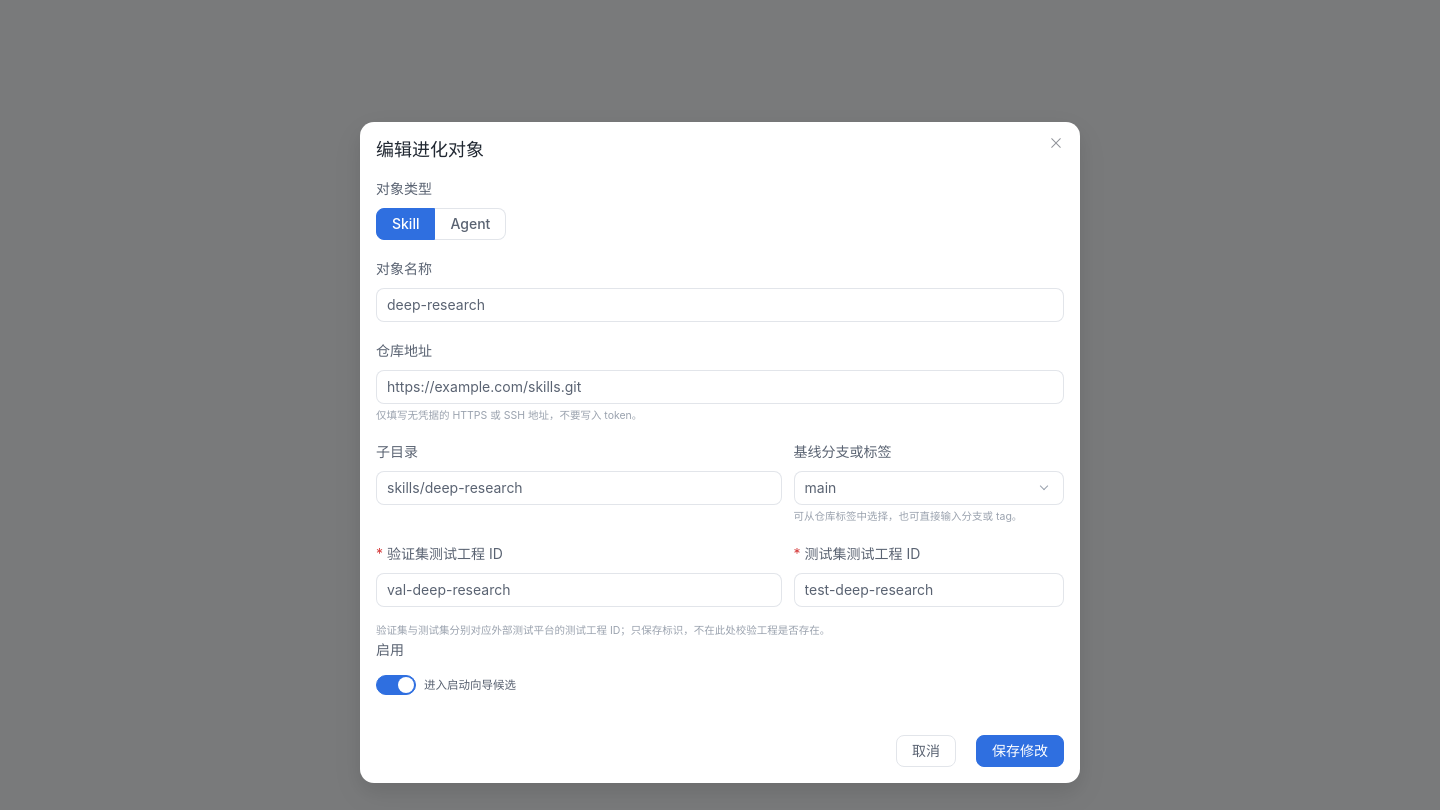
TargetFormDialog › selects a focused suggestion with the keyboard
The image size is (1440, 810).
Click the button named "展开标签建议": (1044,488) [1035, 479, 1053, 497]
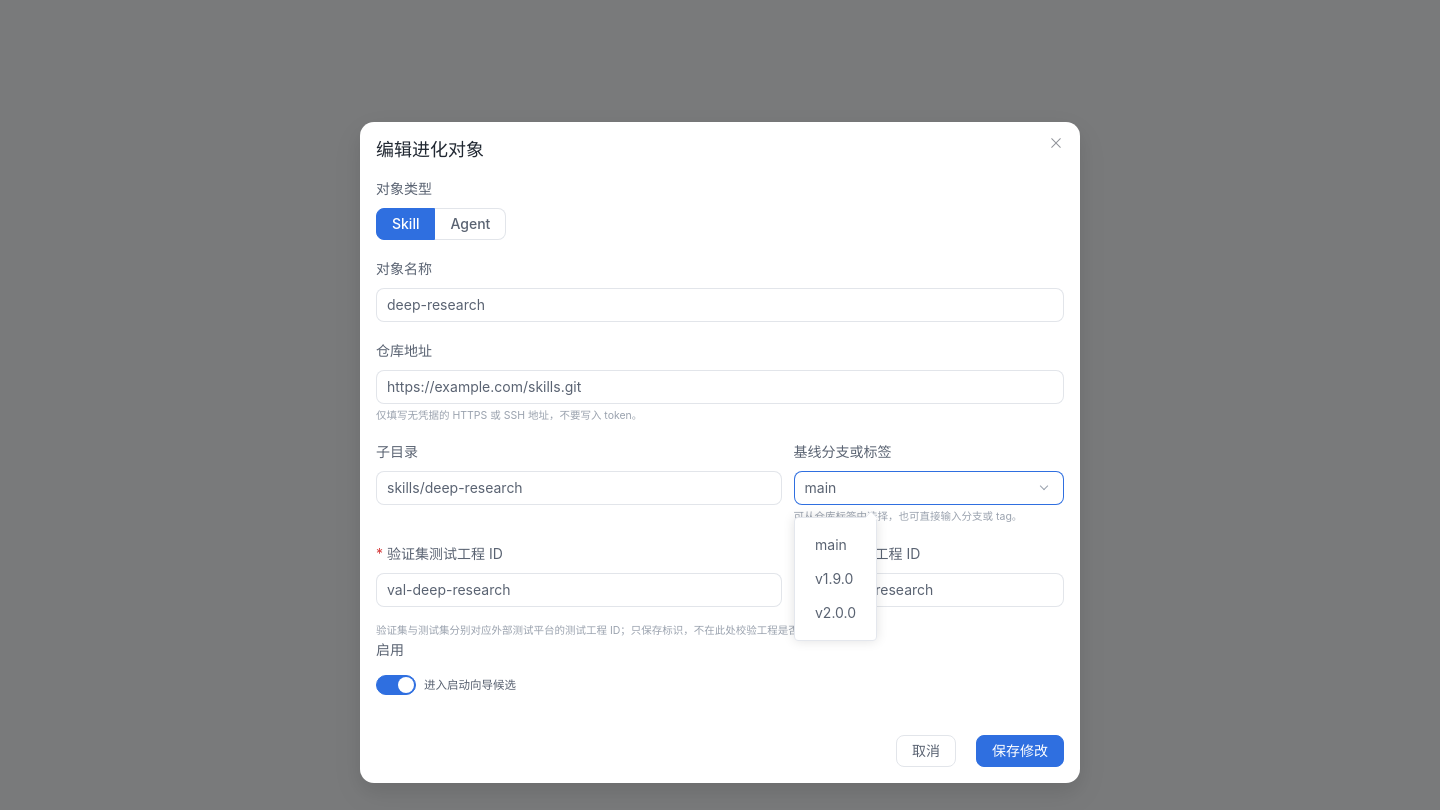
Press ArrowDown in the field named "defaultRef", box [805, 473, 1027, 503]
Press ArrowDown in the field named "defaultRef", box [805, 473, 1027, 503]
Press Enter in the field named "defaultRef", box [805, 473, 1027, 503]
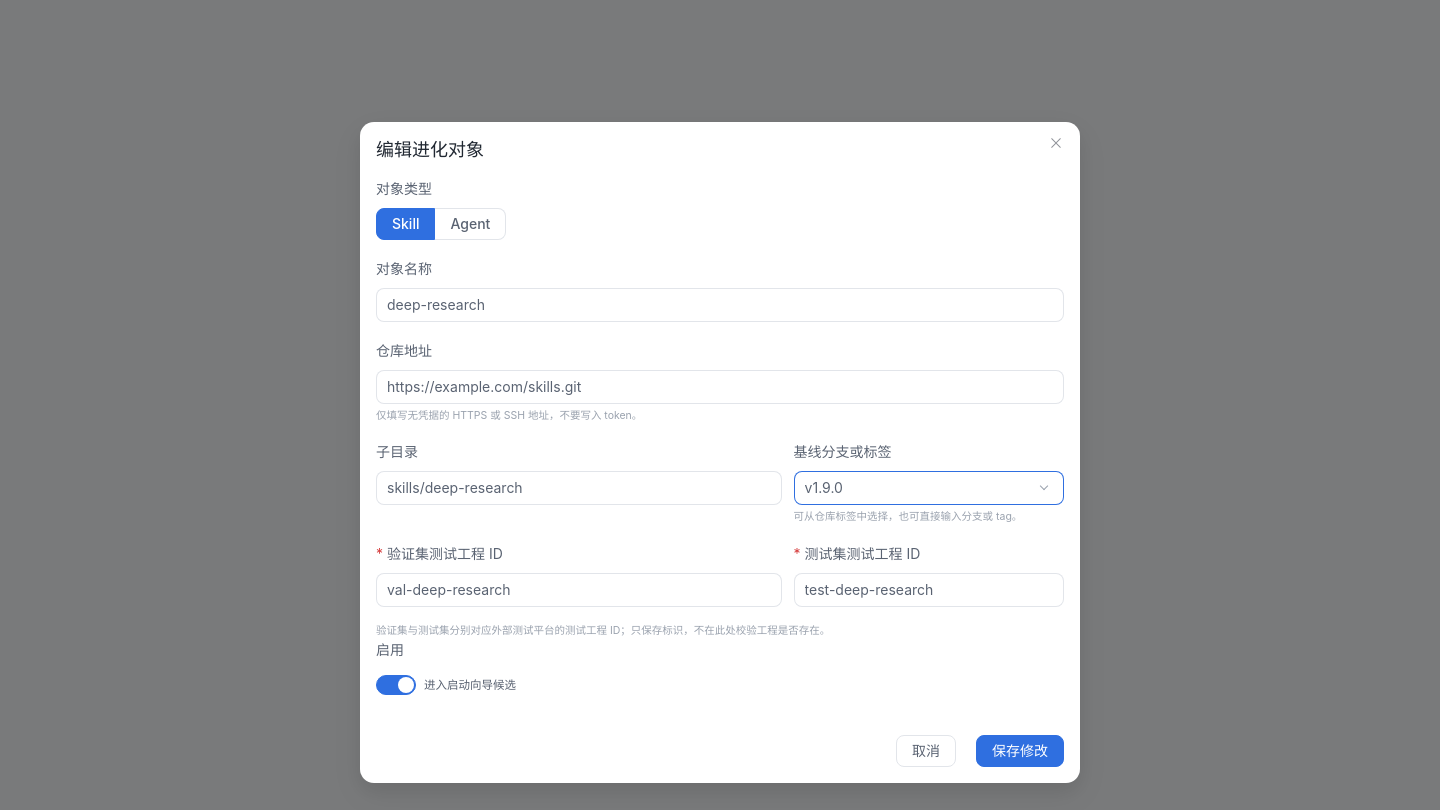
Expected: the field named "defaultRef" holds "v1.9.0", [805, 473, 1027, 503]
